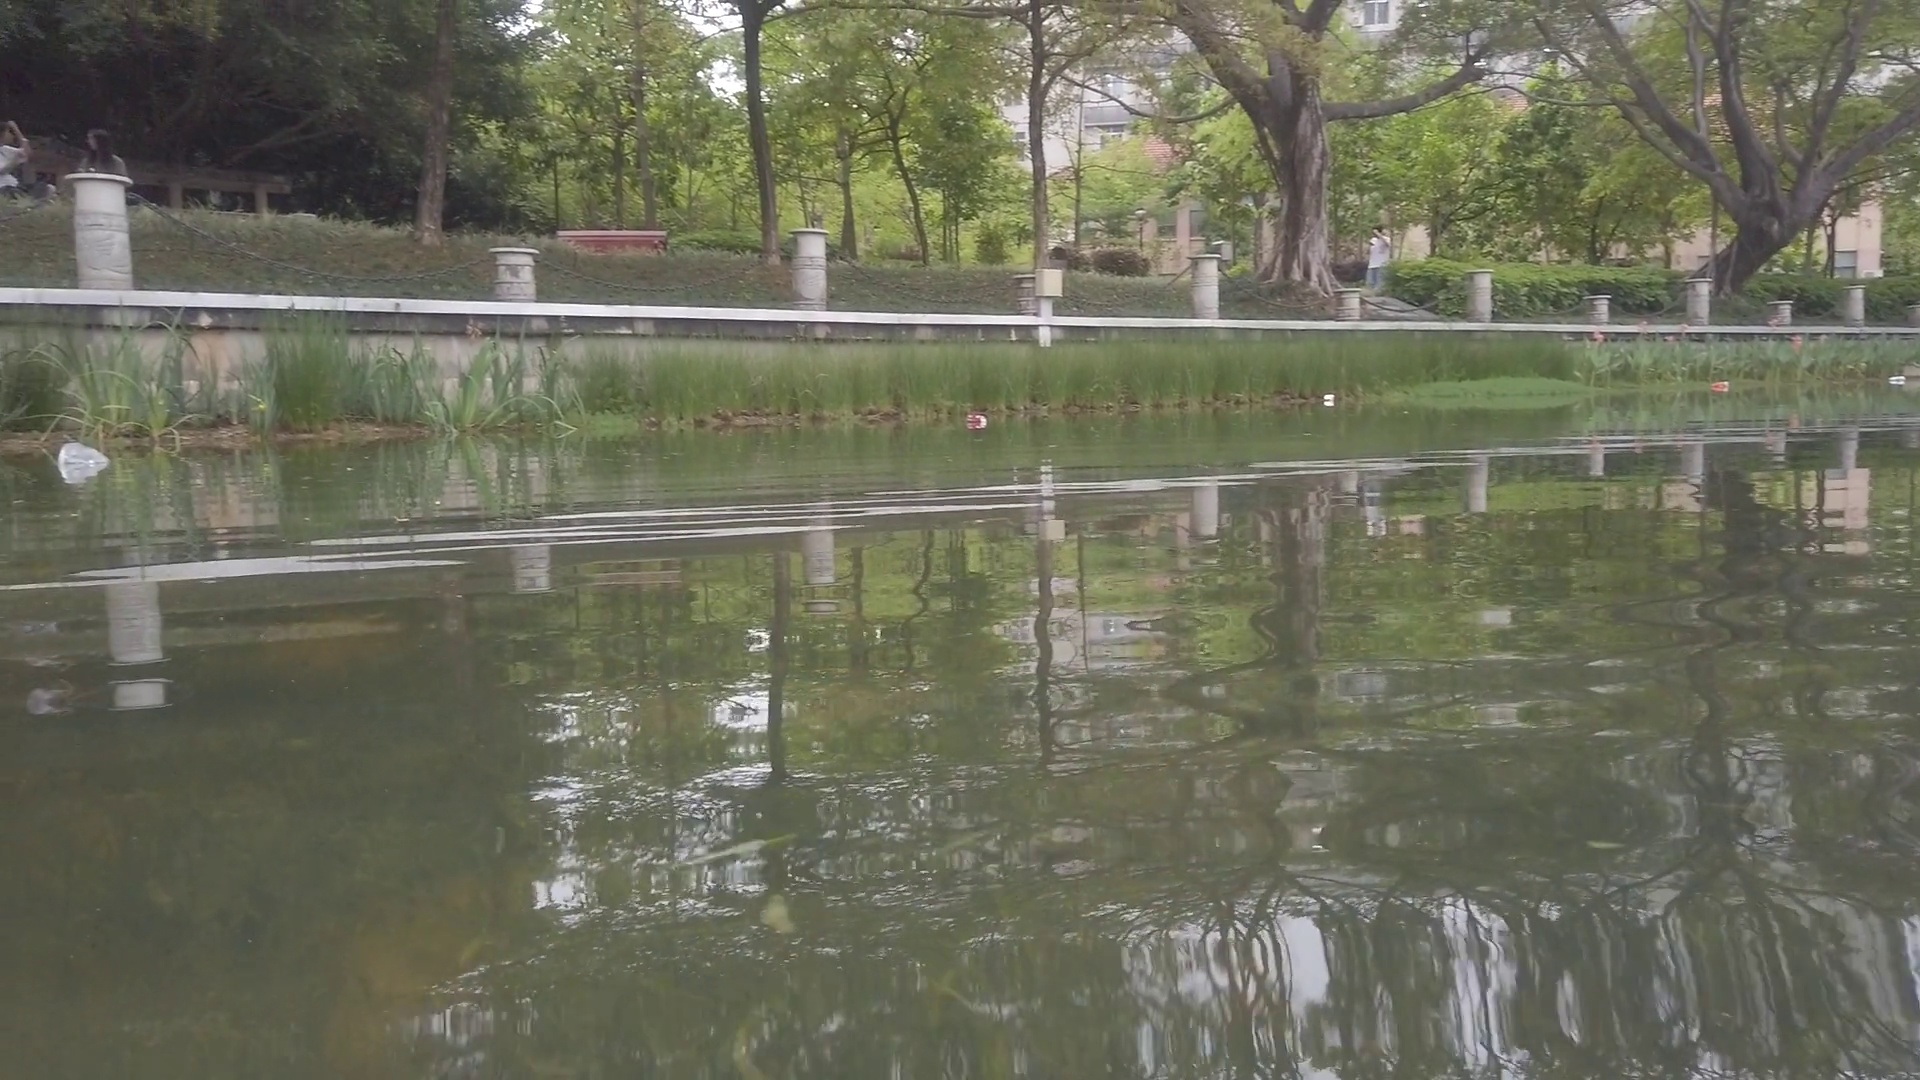bottle: (967, 414, 989, 427), (1712, 378, 1727, 392), (1888, 375, 1905, 384)
carton: (1323, 394, 1336, 406)
plastic: (57, 442, 108, 465)
